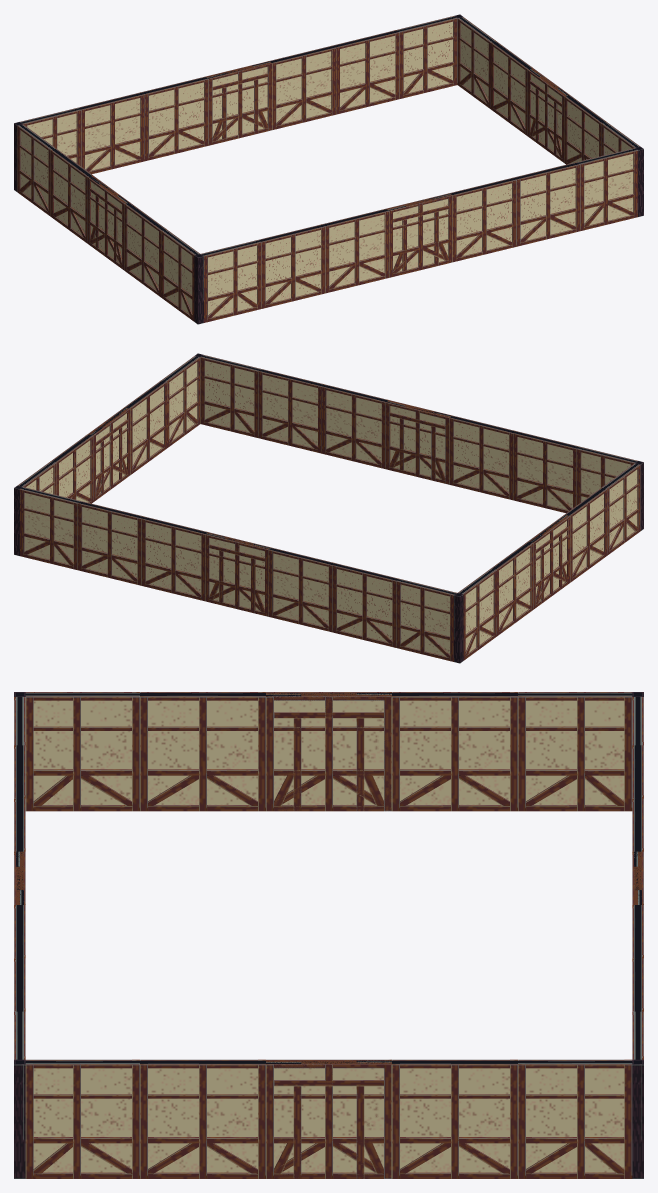
The model's file is GuildHallAndTavern.fbx.
3 views of the same model, one above another, from view 1: azimuth 30°, elevation 25°; view 2: azimuth 150°, elevation 25°; view 3: azimuth 270°, elevation 25° (orthographic). The views are drawn at different scales.
Visible parts, largest first — view 1: RoomSide.003, RoomSide.002, RoomSide, RoomSide.001, RoomWall.002, RoomWall.003, RoomDoor.003, RoomDoor.002, RoomDoor, RoomDoor.001, RoomWall, Corners (+1 smaller); view 2: RoomSide.002, RoomSide.003, RoomSide, RoomSide.001, RoomWall.002, RoomWall.003, RoomDoor.003, RoomDoor.002, RoomWall, RoomDoor.001, RoomWall.001, Corners (+1 smaller); view 3: RoomSide, RoomSide.001, RoomDoor.001, RoomDoor, RoomWall, RoomWall.001, RoomSide.002, RoomSide.003, Corners.
Boxes of the visible parts, <box> form: RoomSide.003: <box>201,148,637,322</box>; RoomSide.002: <box>20,16,457,173</box>; RoomSide: <box>17,124,199,321</box>; RoomSide.001: <box>457,17,639,164</box>; RoomWall.002: <box>208,61,268,145</box>; RoomWall.003: <box>387,193,451,277</box>; RoomDoor.003: <box>386,193,452,273</box>; RoomDoor.002: <box>205,61,272,143</box>; RoomDoor: <box>87,175,129,270</box>; RoomDoor.001: <box>527,68,569,162</box>; RoomWall: <box>87,176,125,269</box>; Corners: <box>14,14,643,324</box>; RoomSide.002: <box>20,487,456,661</box>; RoomSide.003: <box>200,355,637,512</box>; RoomSide: <box>458,463,640,660</box>; RoomSide.001: <box>18,356,200,503</box>; RoomWall.002: <box>205,532,271,612</box>; RoomWall.003: <box>385,400,449,480</box>; RoomDoor.003: <box>385,400,452,484</box>; RoomDoor.002: <box>205,532,271,616</box>; RoomWall: <box>528,514,570,609</box>; RoomDoor.001: <box>88,407,130,501</box>; RoomWall.001: <box>90,408,128,499</box>; Corners: <box>14,353,643,663</box>; RoomSide: <box>25,692,632,811</box>; RoomSide.001: <box>25,1059,632,1178</box>; RoomDoor.001: <box>266,1059,391,1178</box>; RoomDoor: <box>266,692,391,811</box>; RoomWall: <box>266,692,391,811</box>; RoomWall.001: <box>268,1059,391,1178</box>; RoomSide.002: <box>632,697,643,1059</box>; RoomSide.003: <box>14,697,25,1059</box>; Corners: <box>14,692,643,1178</box>.
Size of the model in its own units: 28 by 20 by 4.
